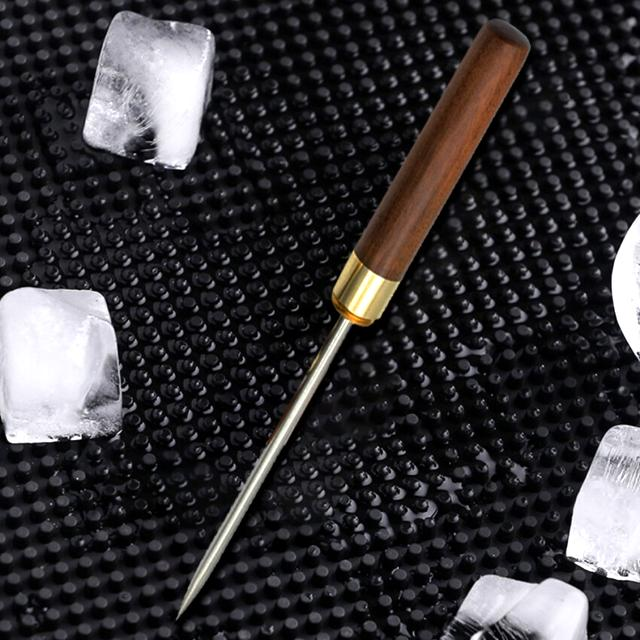ice pick: (175, 22, 530, 622)
